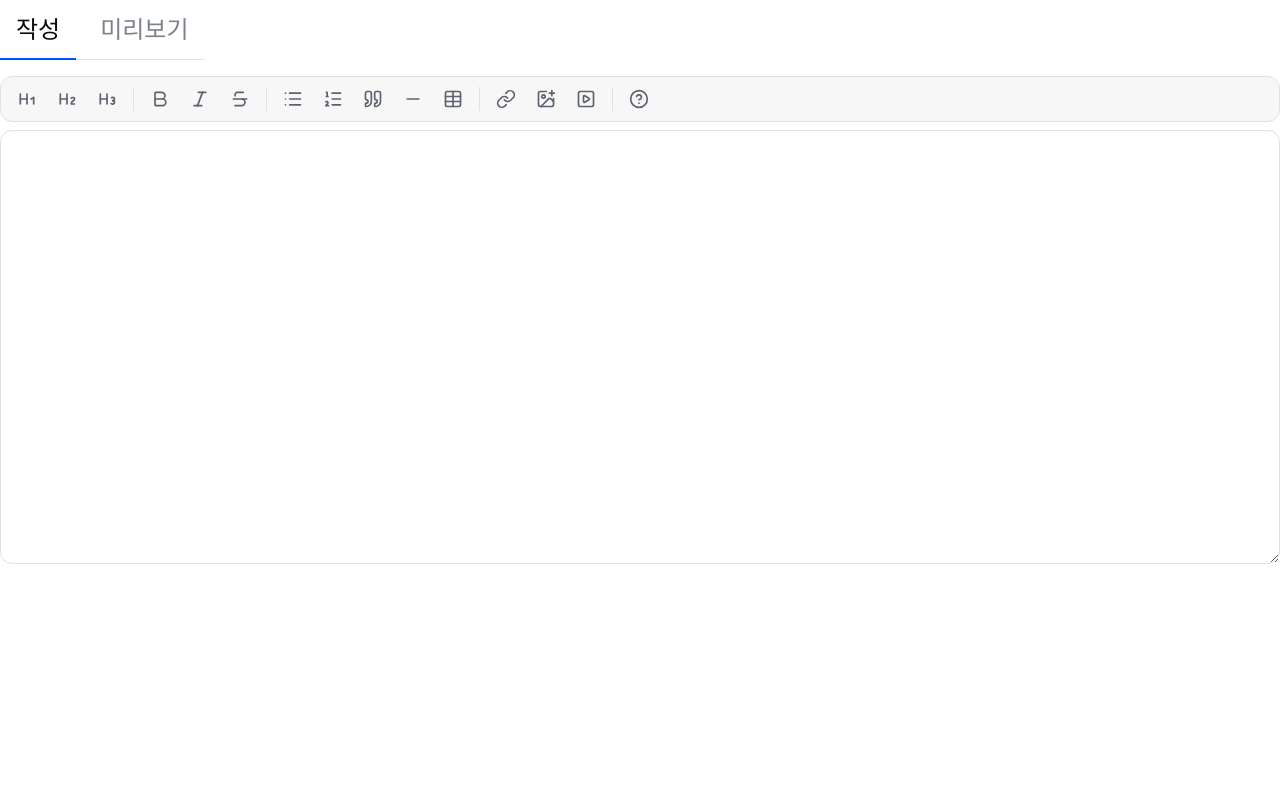
MarkdownToolbar — 링크·유튜브 › 주소가 http로 시작하지 않으면 에러를 보인다
Click the button named "링크": (506, 99) [488,81,524,117]
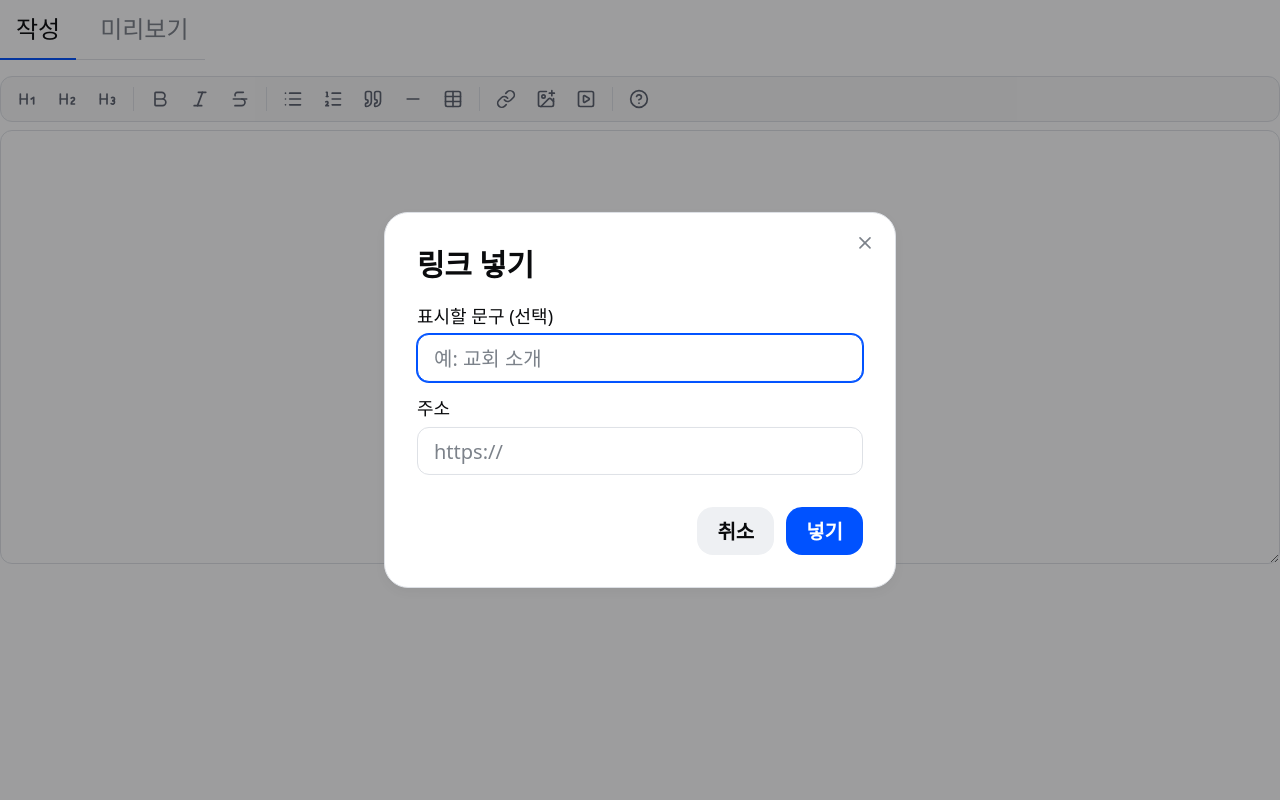
In the field labelled "주소": (640, 451) [417,427,863,475], type "example.com"
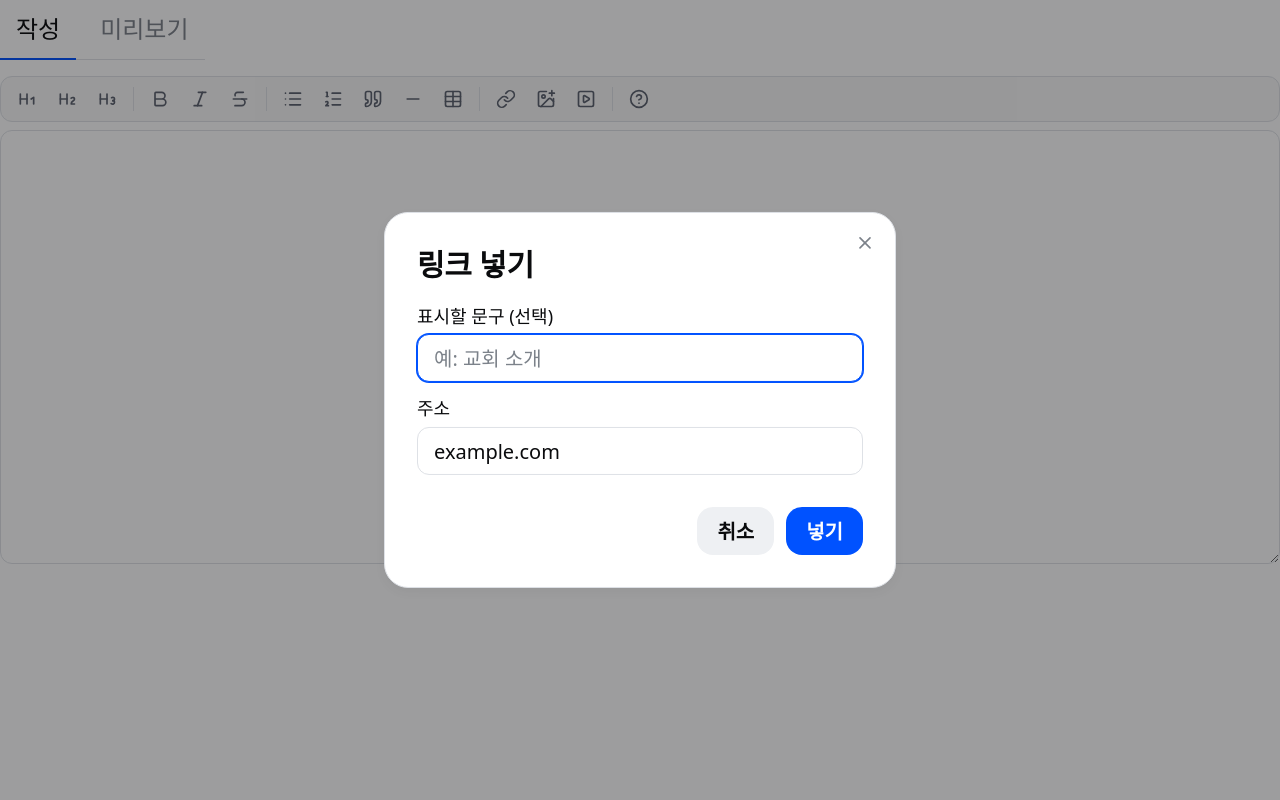
Click the button "넣기": (825, 531) [786,507,863,555]
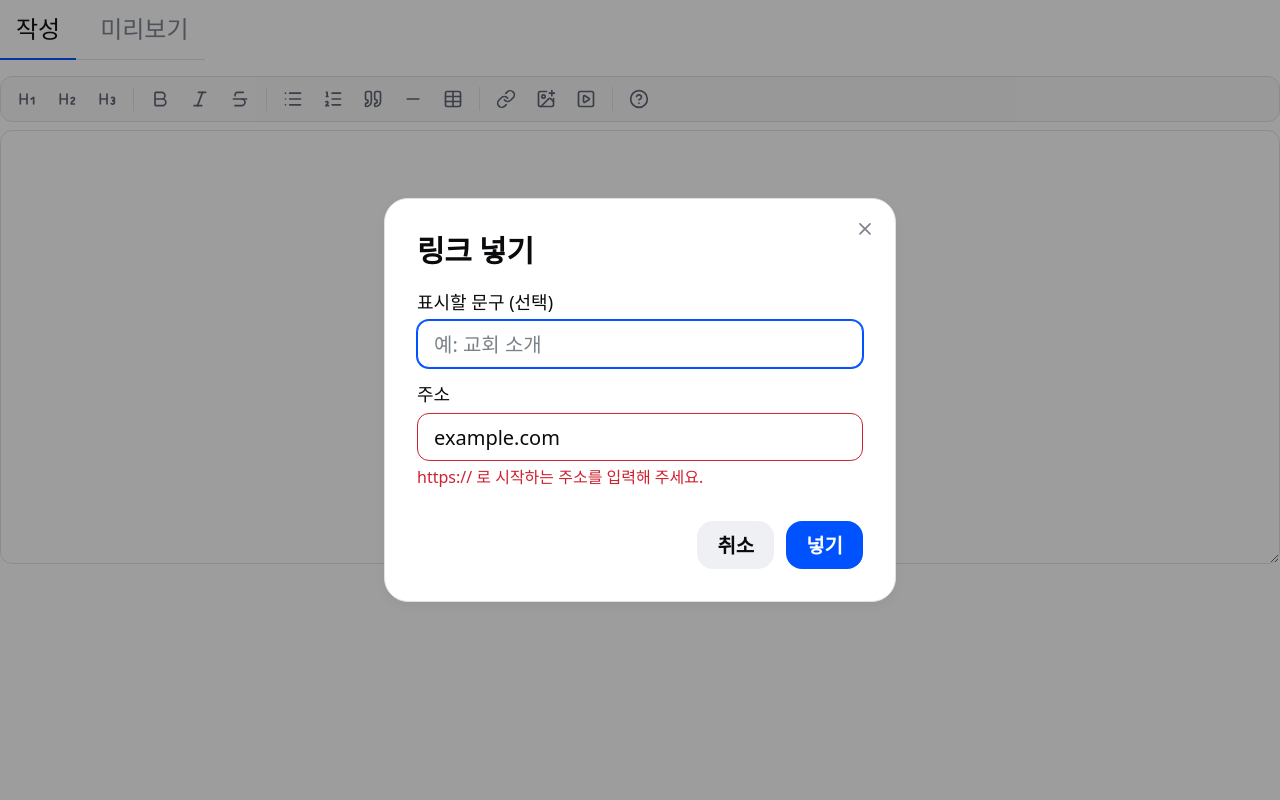
Check: the text "https:// 로 시작하는 주소를 입력해 주세요." is shown, box [417,466,703,488]
